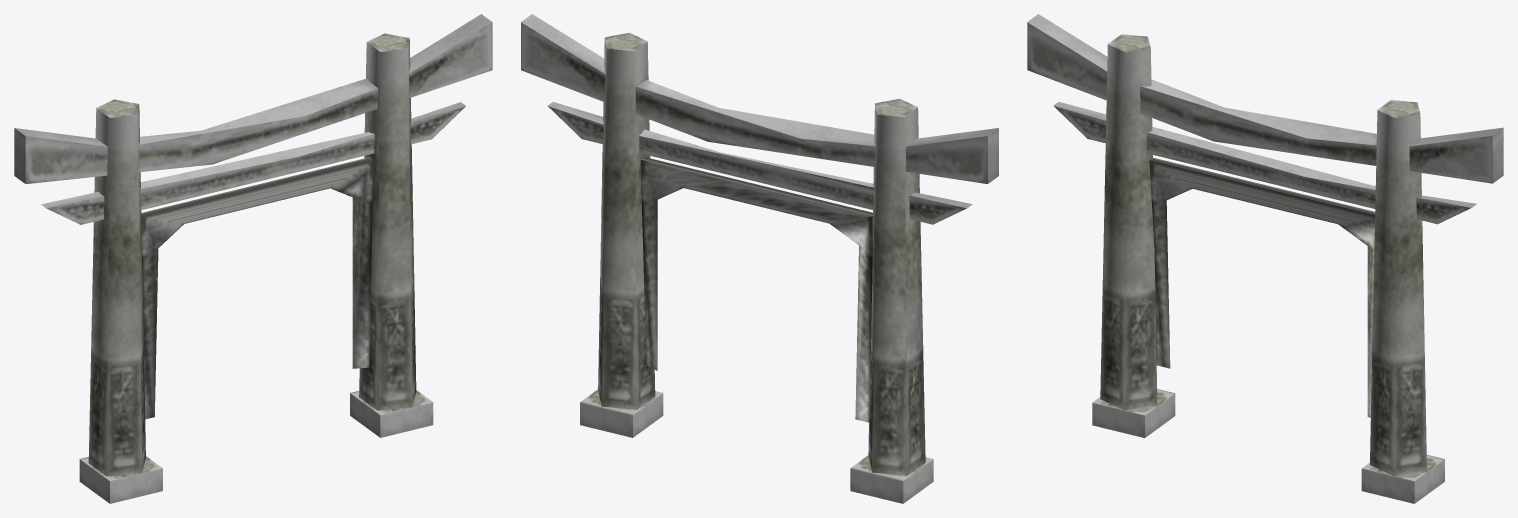
Rendered from warpgate03_lod_01.fbx.
3 views of the same model, side by side, from view 1: azimuth 30°, elevation 25°; view 2: azimuth 150°, elevation 25°; view 3: azimuth 330°, elevation 25° (orthographic).
Visible parts, largest first — view 1: gate03; view 2: gate03; view 3: gate03.
Part boxes in pixels (x1,y1,x2,y2): gate03: (14,14,492,503); gate03: (521,14,998,503); gate03: (1027,14,1503,503).
Bounding box in the file's own units: 9.4 × 7.29 × 1.07.
